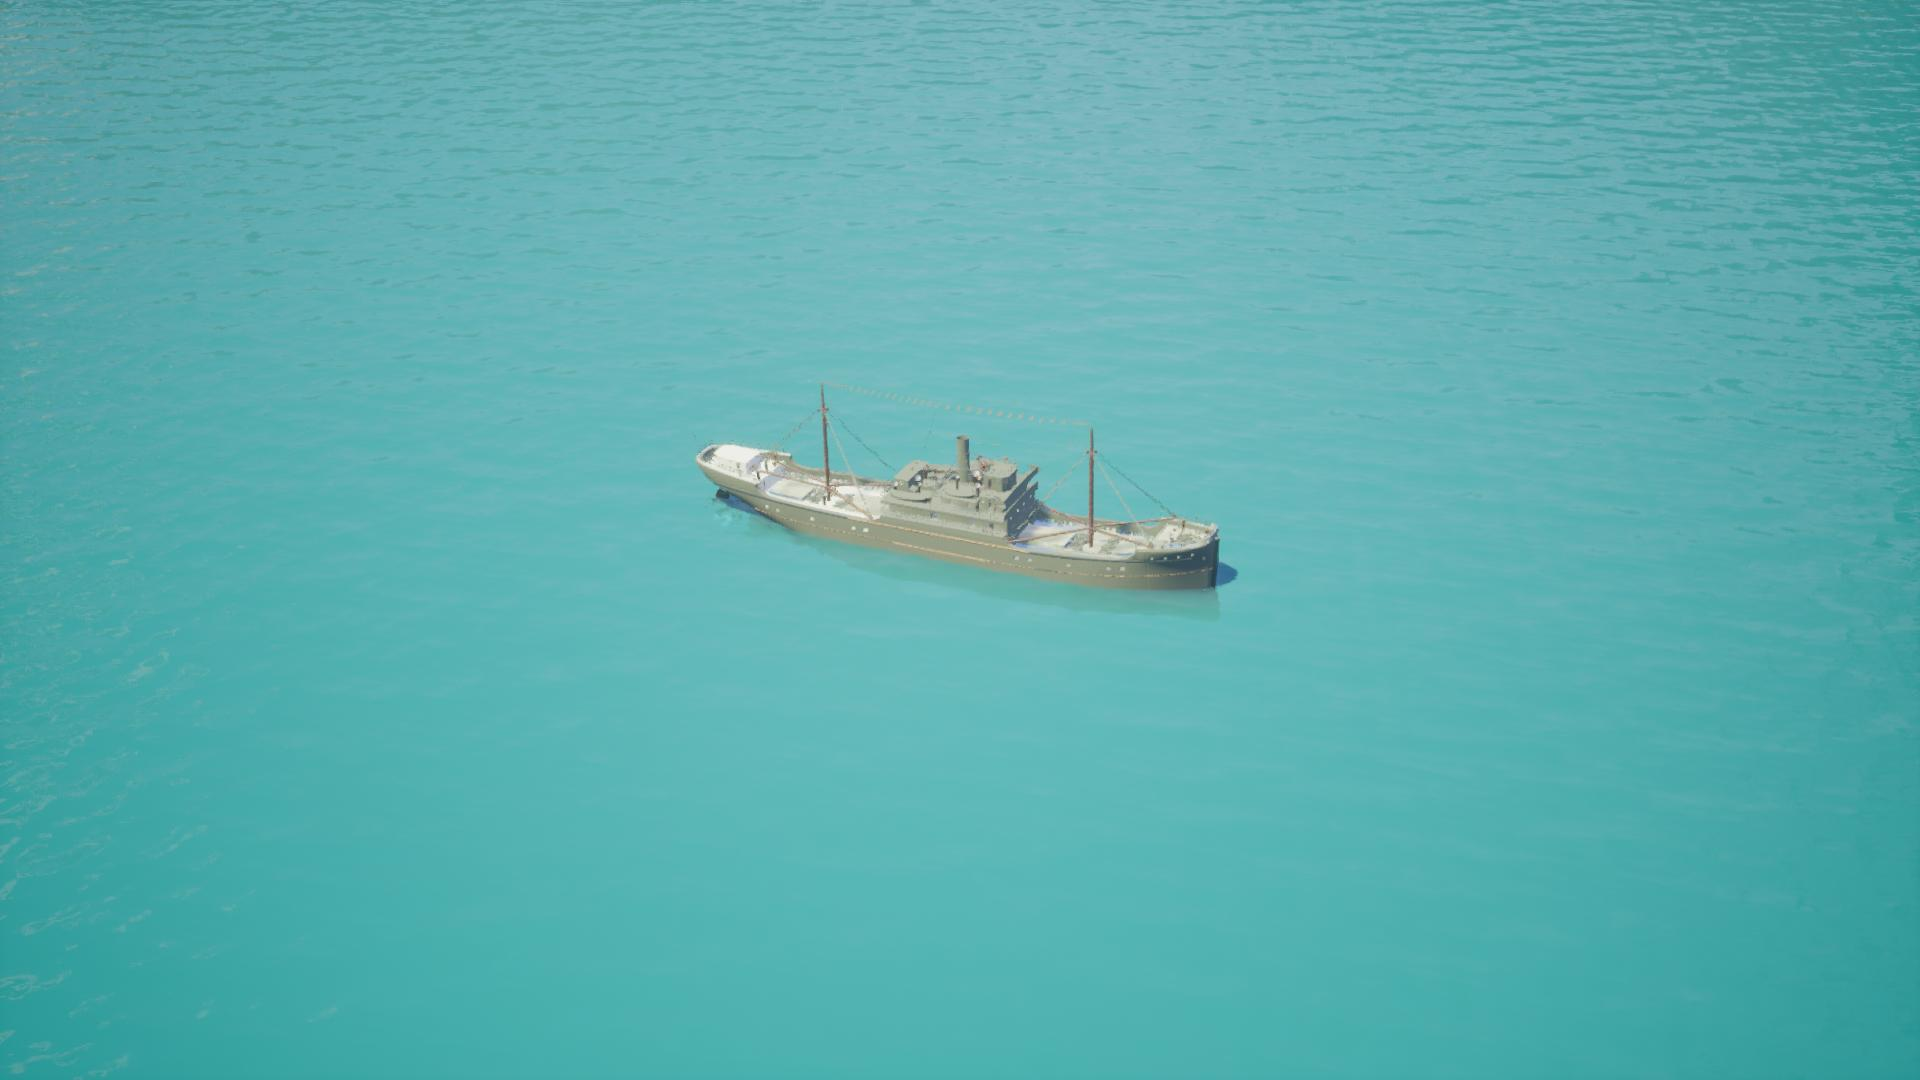Fishing Boat: (690, 381, 1228, 600)
